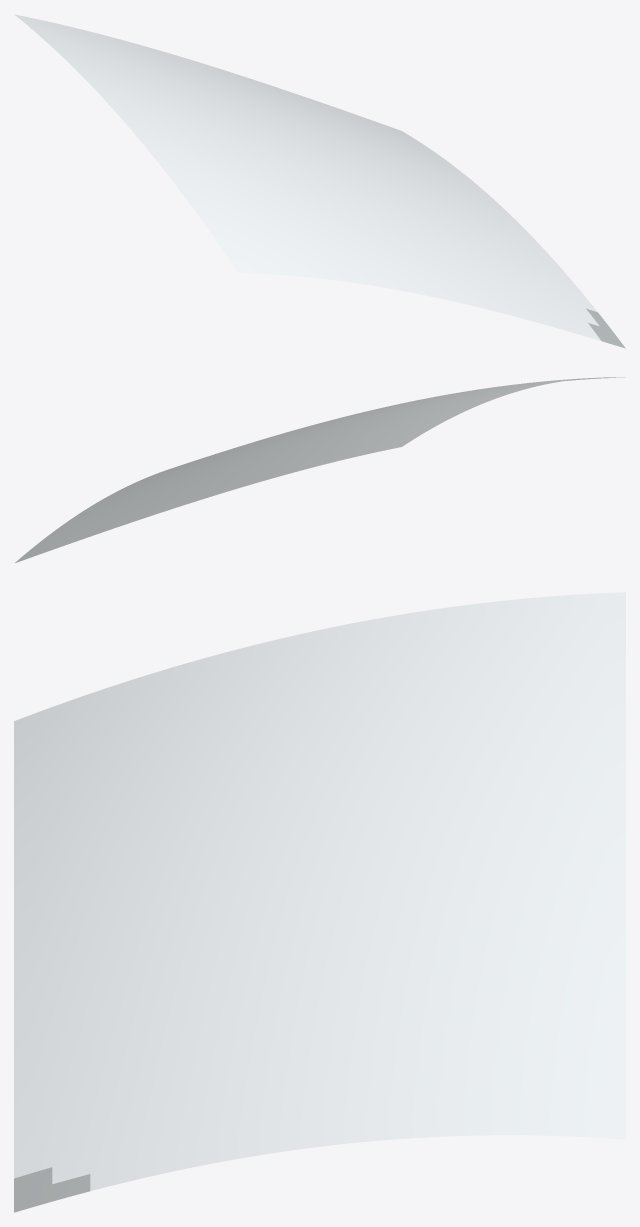
File: alpine-9-7.glb
3 renders of one model, top to bottom at view 1: azimuth 30°, elevation 25°; view 2: azimuth 150°, elevation 25°; view 3: azimuth 270°, elevation 25°, orthographic. The views are drawn at different scales.
Parts seen in each view (by area): view 1: alpine-9-7; view 2: alpine-9-7; view 3: alpine-9-7.
Boxes of the visible parts, <box> form: alpine-9-7: <box>14,14,625,348</box>; alpine-9-7: <box>15,377,624,562</box>; alpine-9-7: <box>14,592,625,1212</box>.
Bounding box in the file's own units: 256 × 167 × 256.
2 materials, 2 textured.
